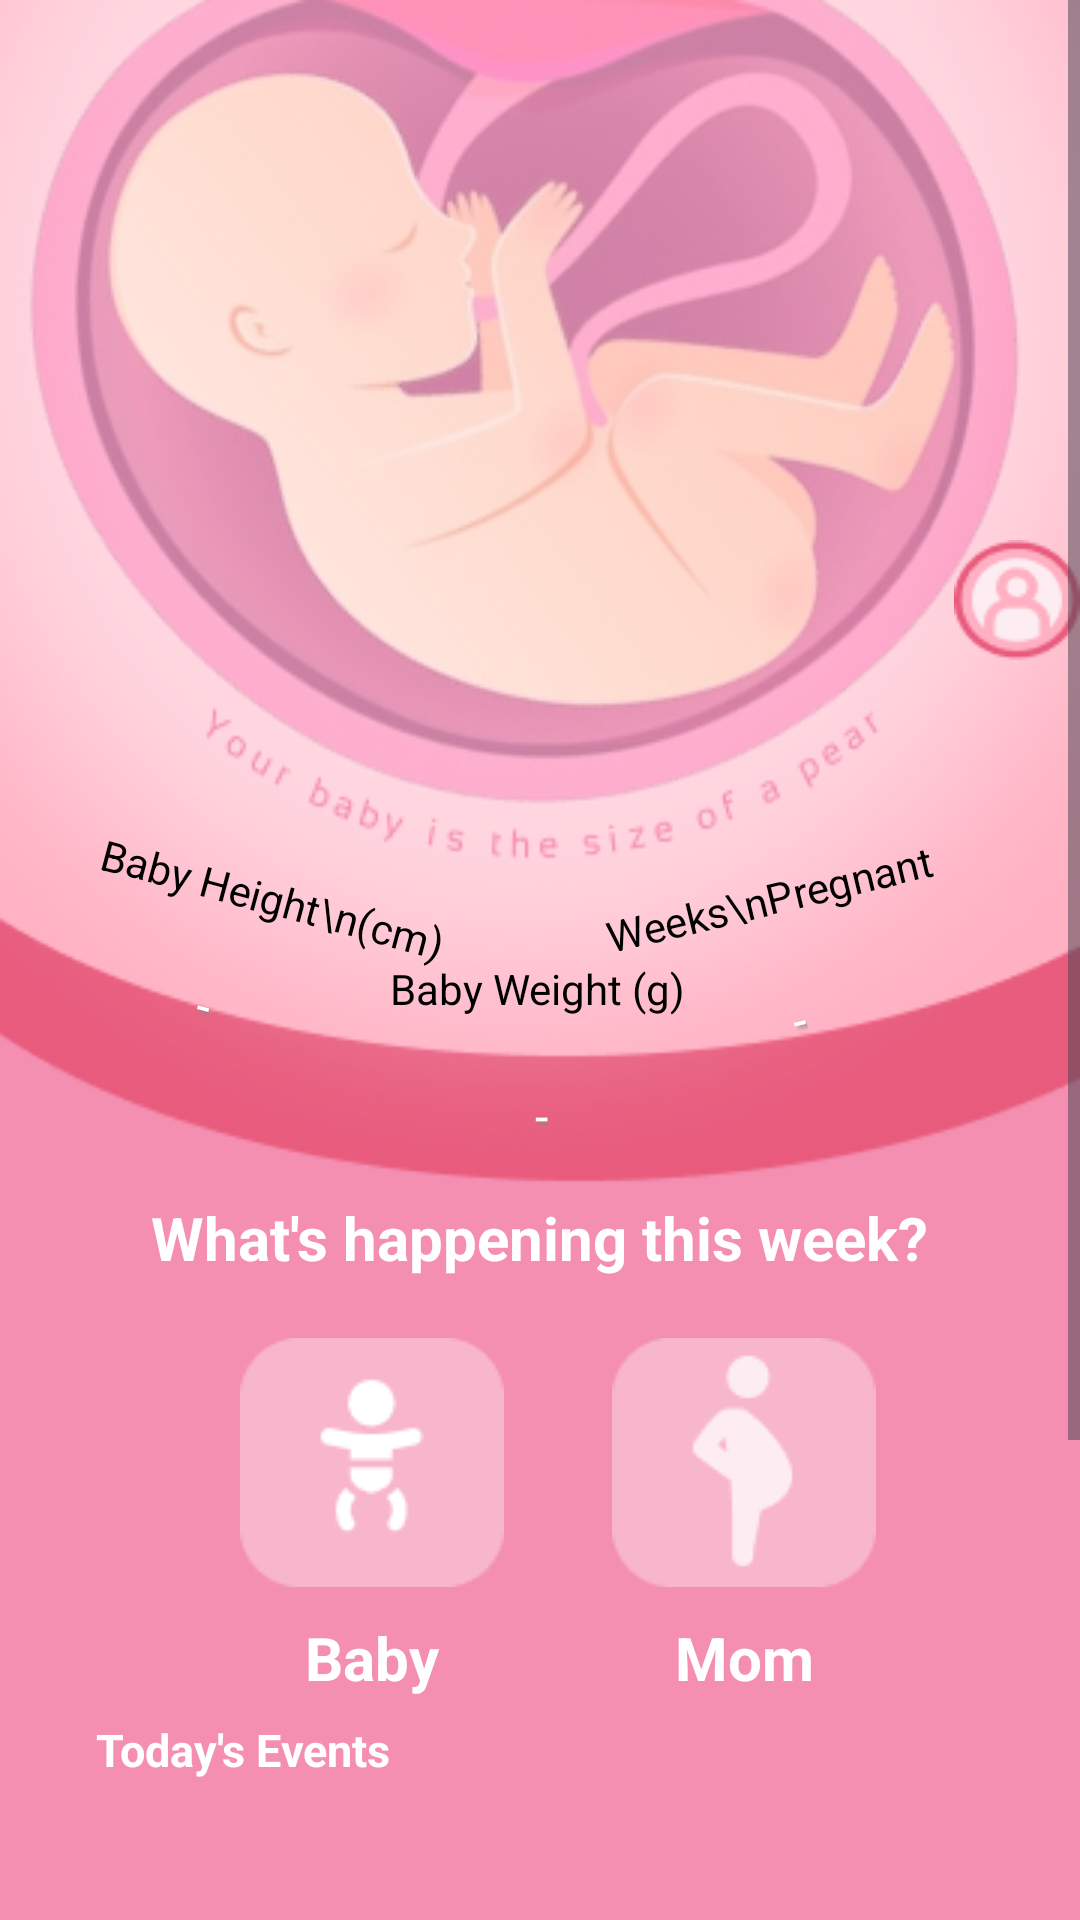

Named icons in this screenshot (1080w x 1920h) and their centers, (x=x, y=y):
profileicon: (x=1017, y=600)
